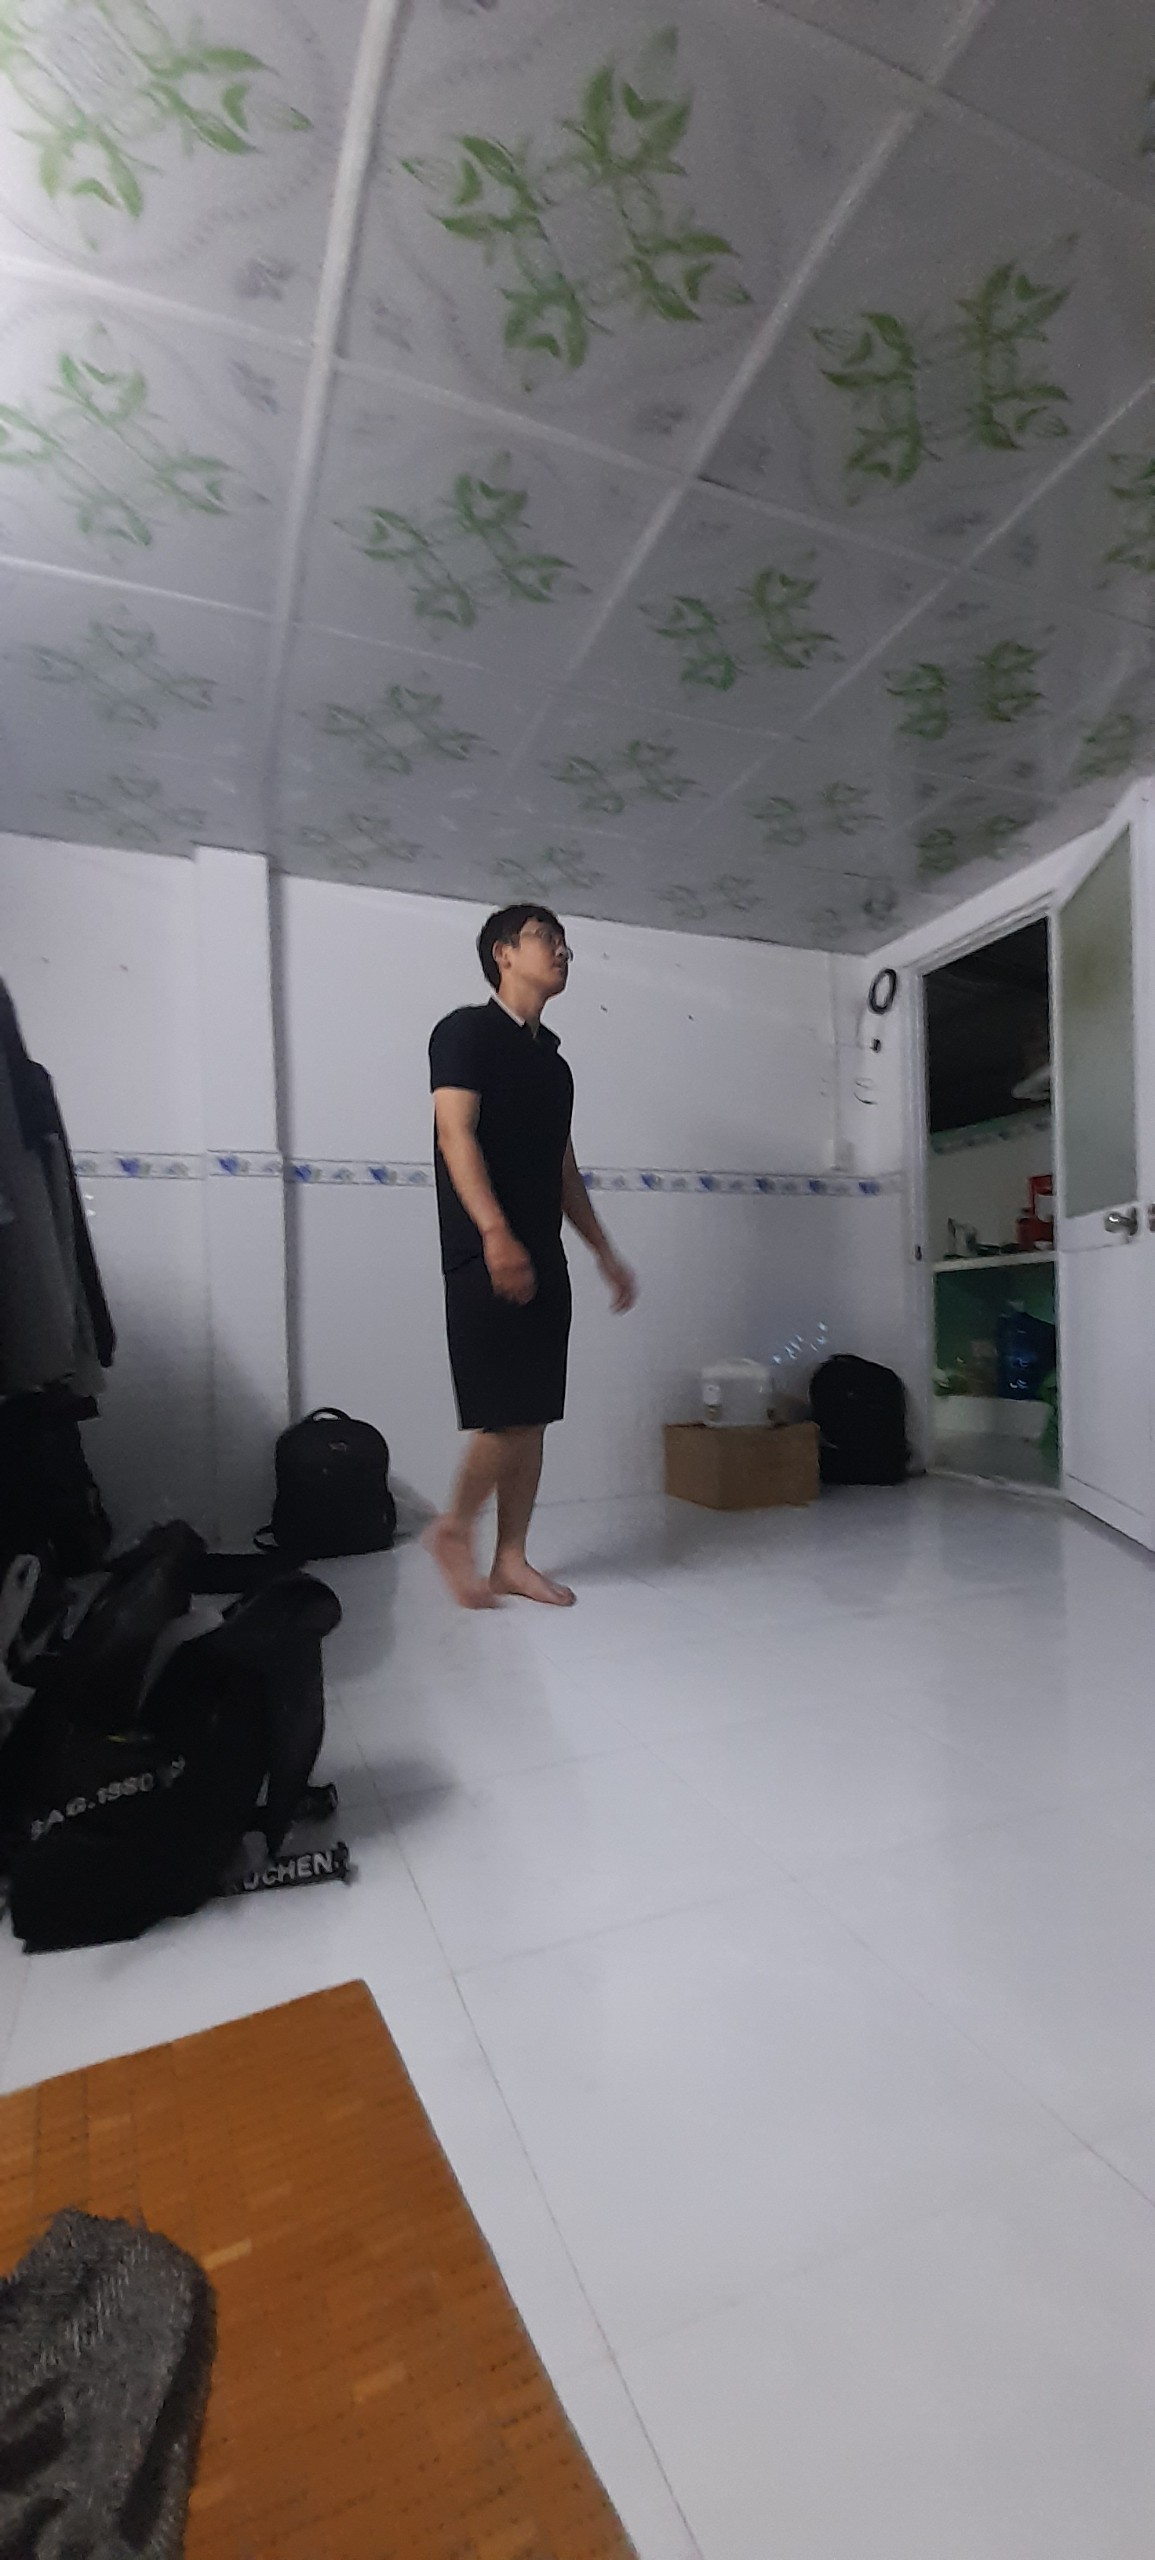person: (419, 893, 589, 1612)
